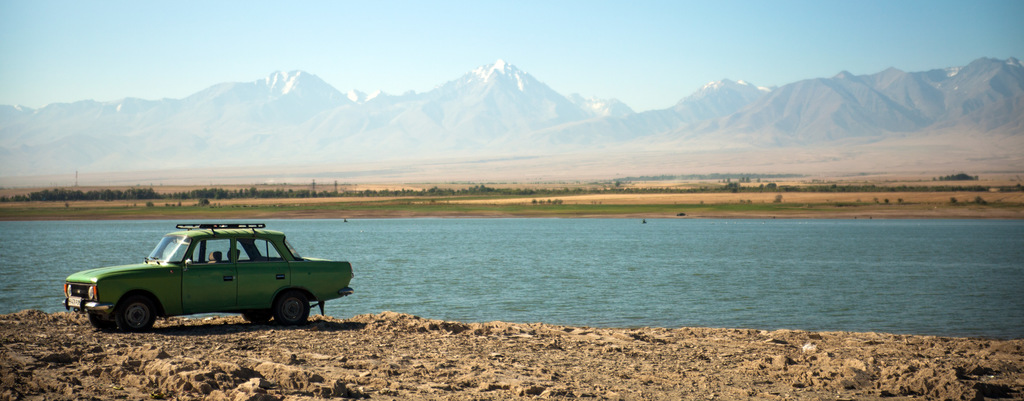Car: (52, 215, 356, 333)
